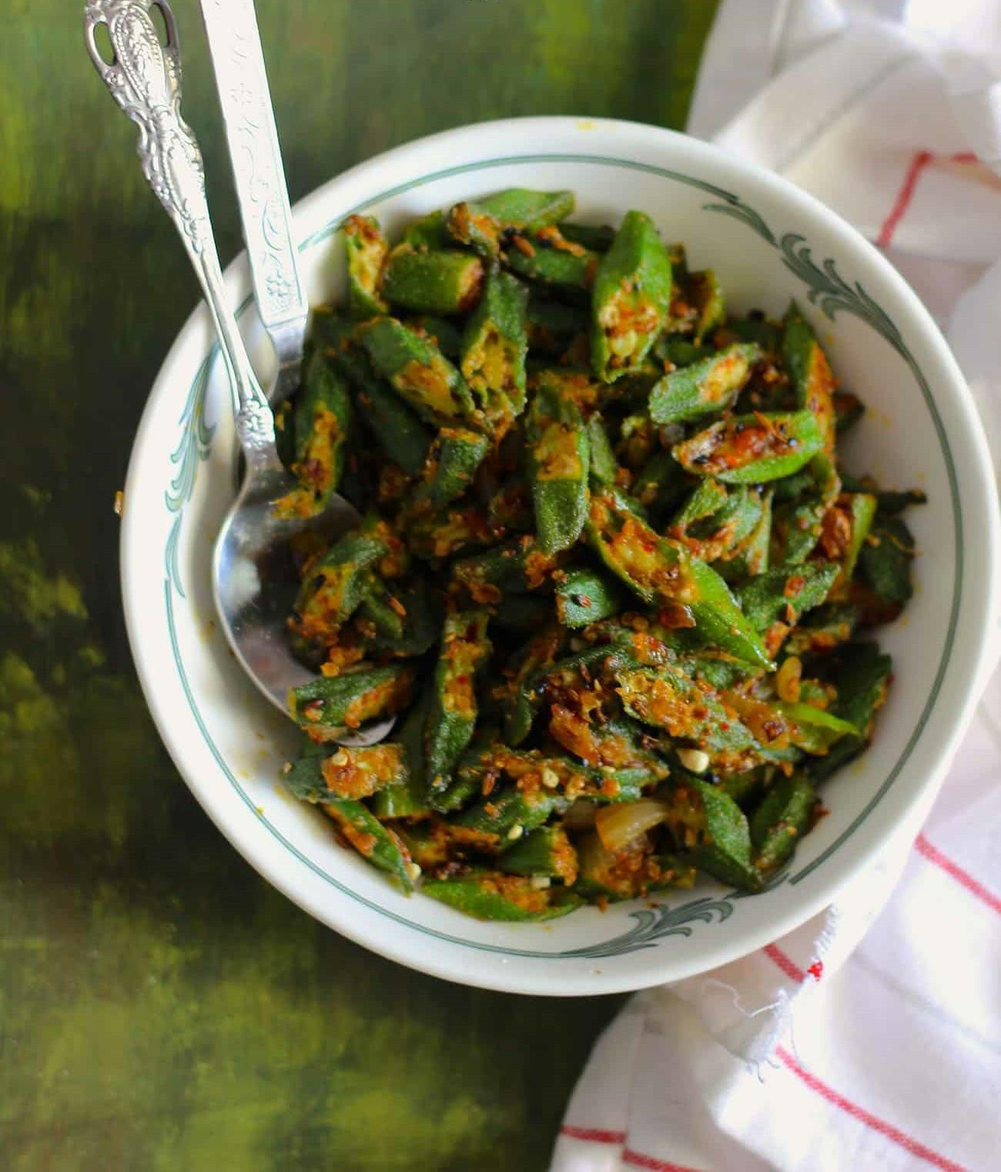BhindiMasala: (260, 189, 922, 924)
